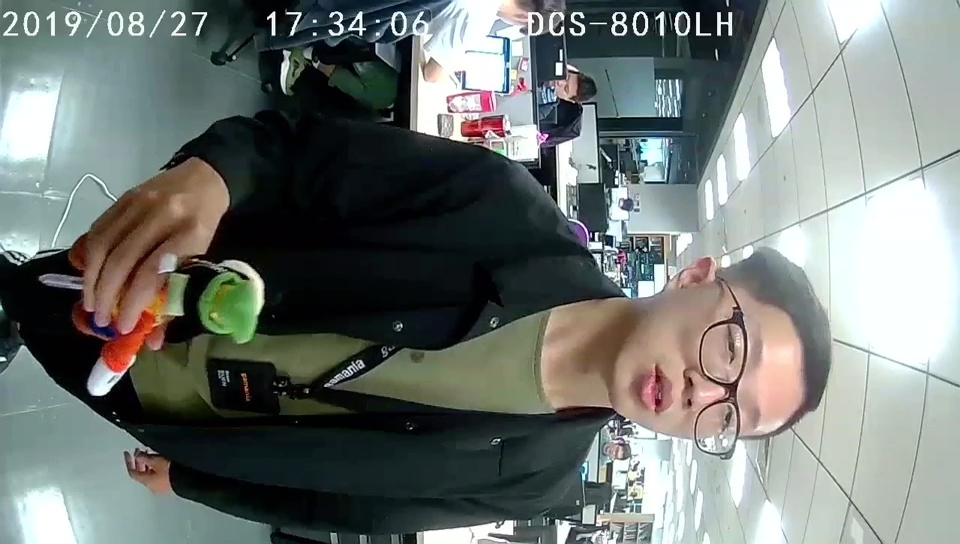goofy: (70, 249, 266, 396)
